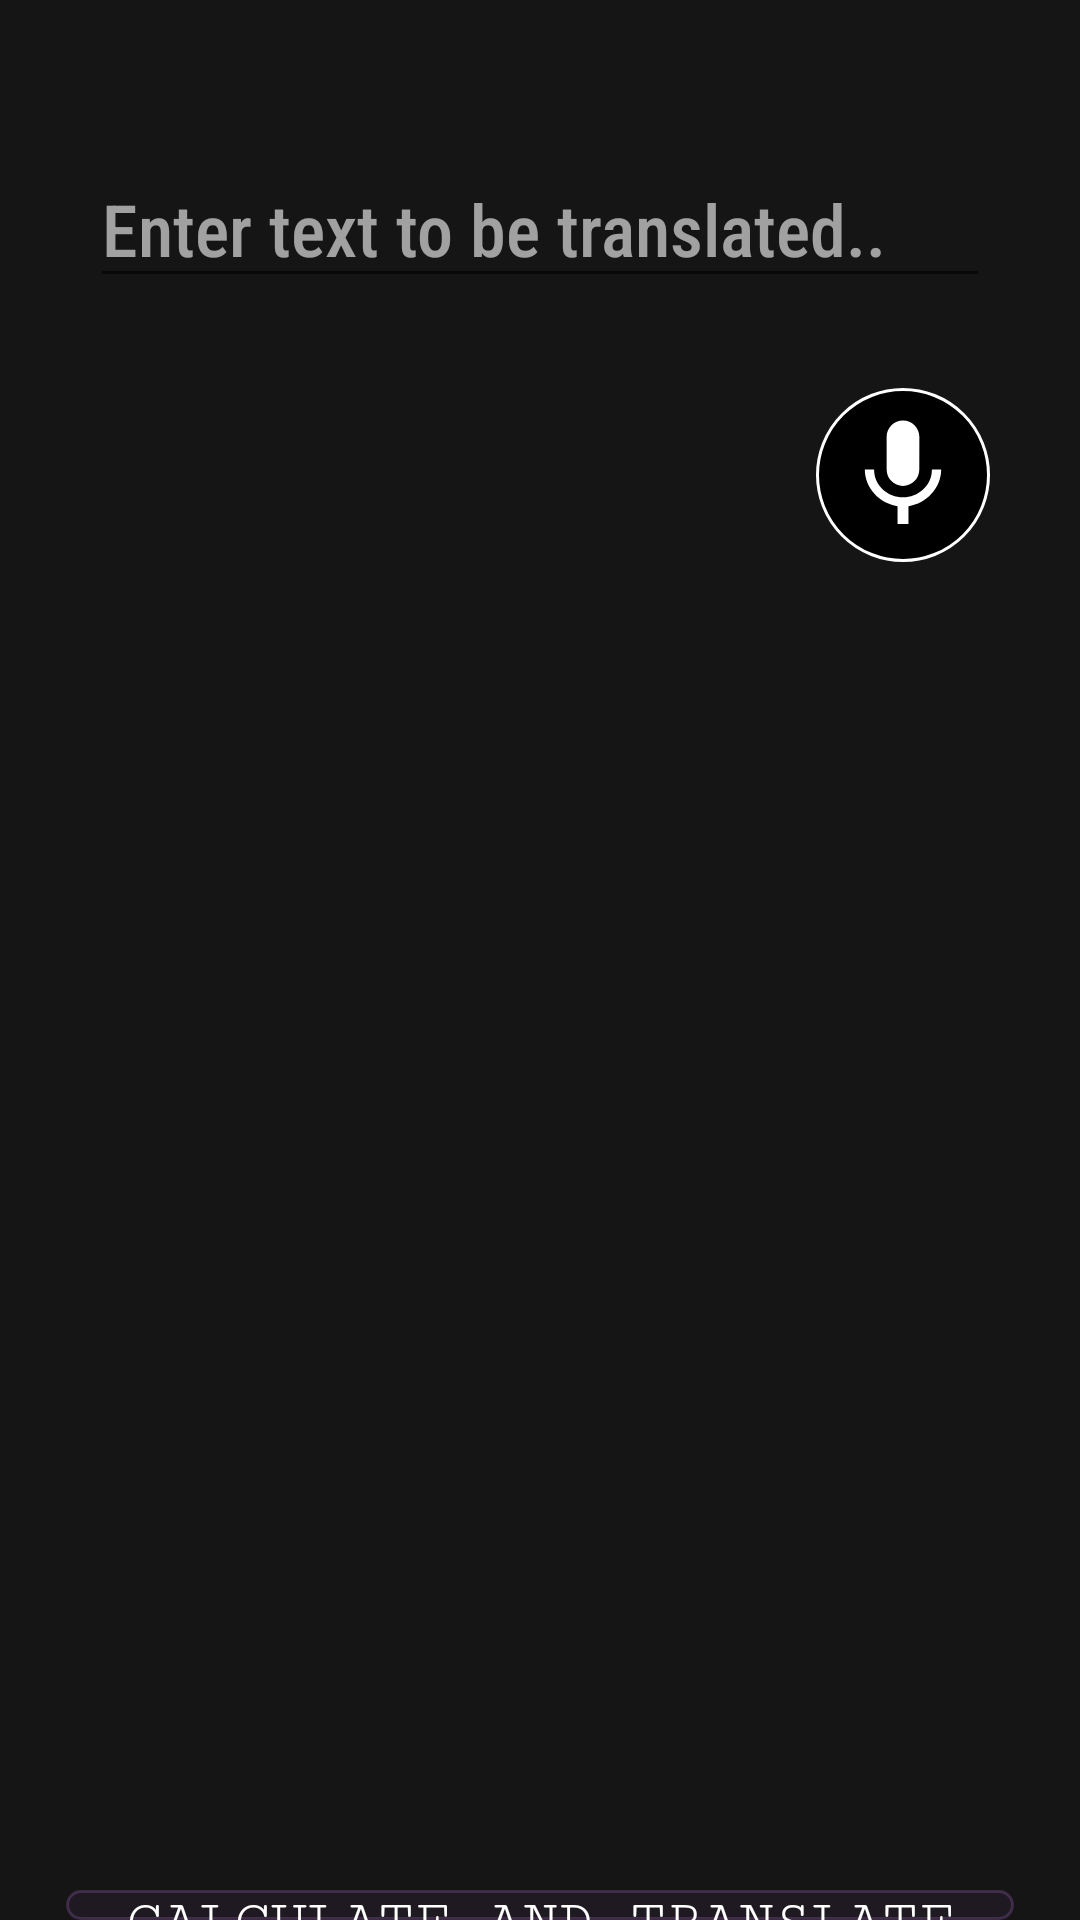

Icons on this 1080px x 1920px Android screen, each with its box as (x1, y1, x2, y2):
mic: (816, 388, 990, 562)
